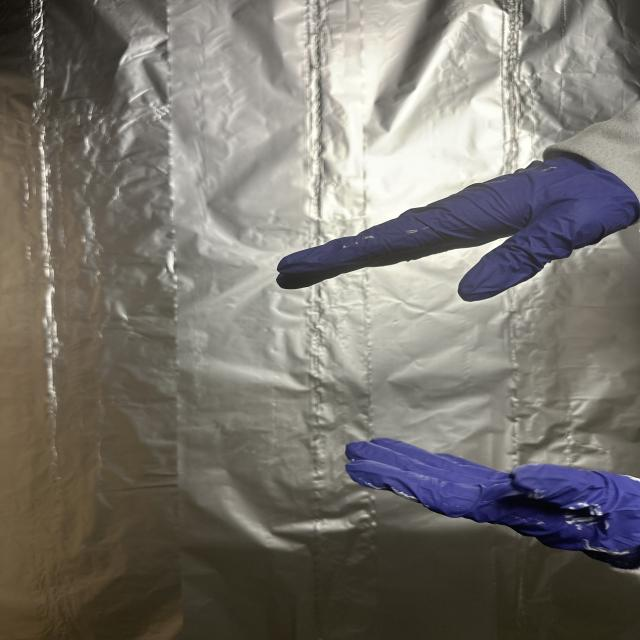gloves_contaminated: (277, 153, 640, 301), (346, 438, 640, 569)
